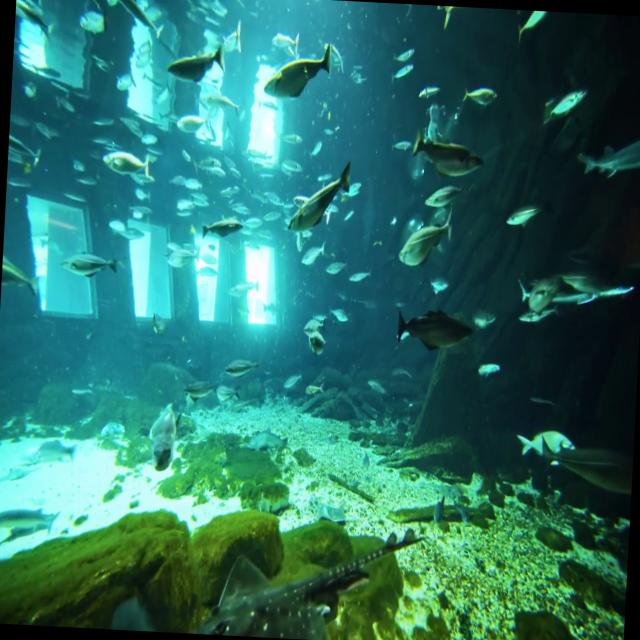fish: (536, 423, 635, 502), (280, 157, 359, 253), (402, 116, 491, 188), (386, 297, 481, 362), (256, 37, 337, 112), (567, 109, 640, 186), (130, 394, 196, 478), (560, 254, 637, 316), (161, 40, 229, 100), (396, 206, 456, 273), (0, 243, 41, 327), (59, 238, 122, 288), (106, 130, 158, 187), (514, 264, 574, 310), (7, 115, 47, 183), (542, 77, 588, 132), (109, 0, 169, 42), (516, 424, 574, 464), (499, 189, 548, 232), (456, 71, 502, 115), (167, 103, 212, 147), (71, 0, 110, 49), (14, 0, 59, 42), (202, 209, 247, 248), (106, 207, 152, 245), (327, 23, 358, 74), (510, 10, 554, 44), (264, 22, 304, 59), (334, 166, 368, 207), (470, 349, 507, 386), (296, 235, 332, 272), (411, 72, 444, 108), (466, 300, 501, 332), (344, 260, 374, 294), (321, 252, 348, 283), (425, 271, 451, 303), (166, 190, 194, 218), (391, 42, 416, 71), (114, 69, 140, 96), (303, 324, 322, 357), (387, 61, 415, 83)
